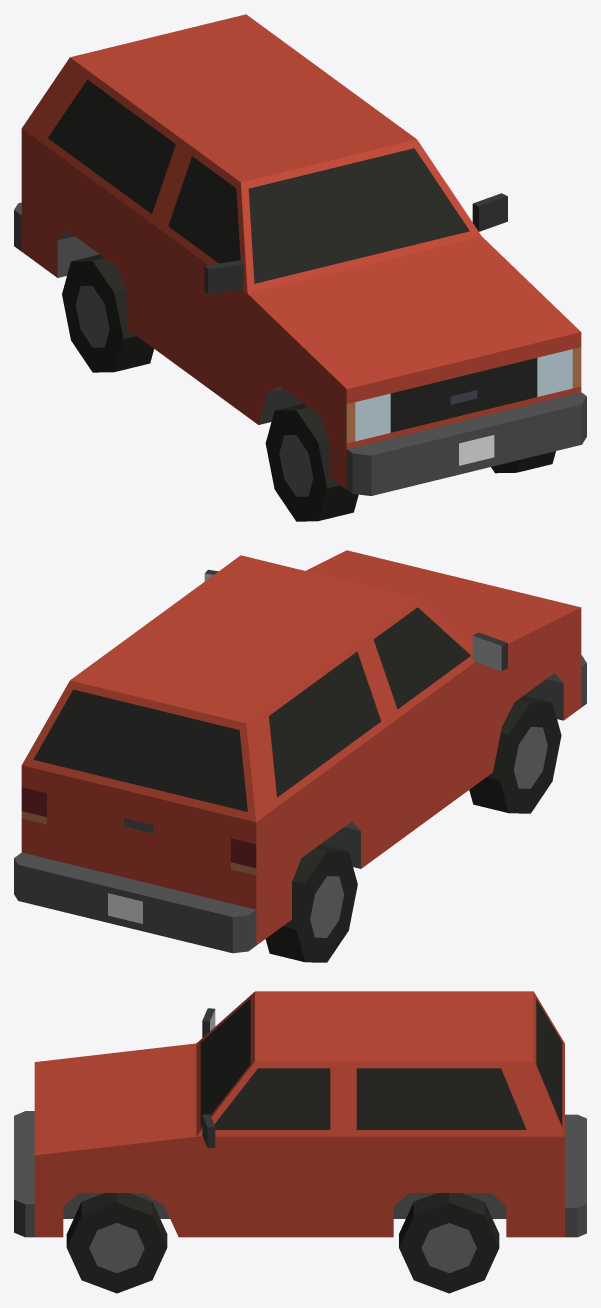
Rendered from Veh_SUV_02_Red.obj.
3 views of the same model, one above another, from view 1: azimuth 30°, elevation 25°; view 2: azimuth 150°, elevation 25°; view 3: azimuth 270°, elevation 25° (orthographic). The views are drawn at different scales.
Bounding box in the file's own units: 1.27 × 1.1 × 2.58.
